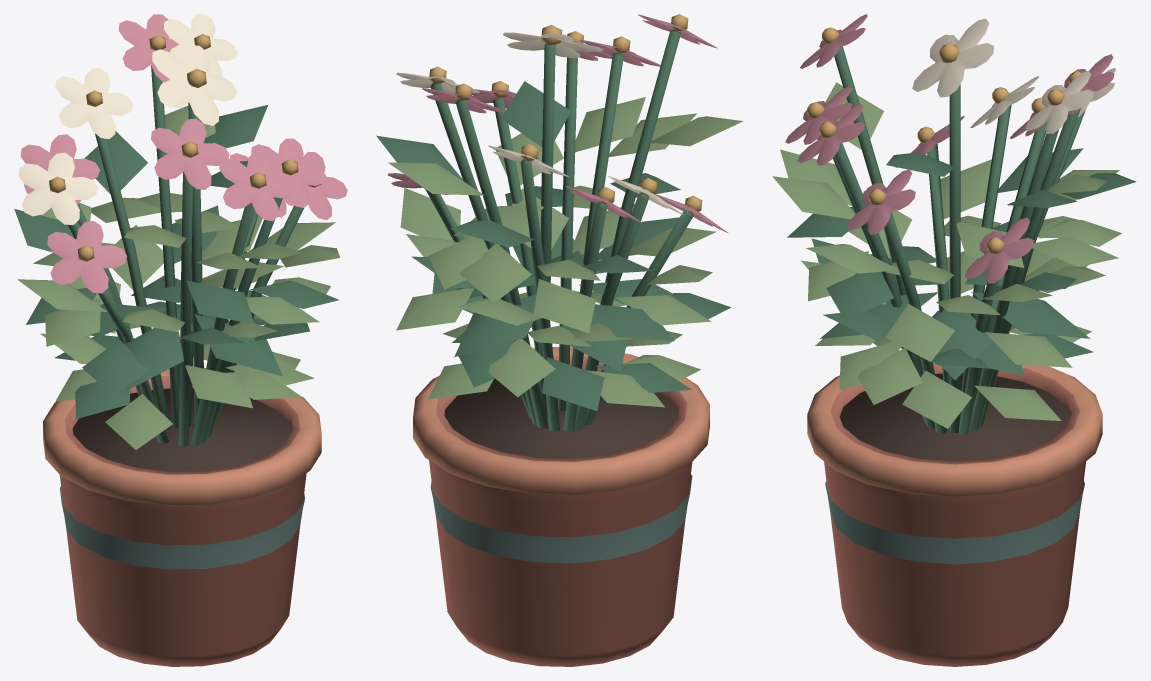
Rendered from flower_pot.glb.
3 views of the same model, side by side, from view 1: azimuth 30°, elevation 25°; view 2: azimuth 150°, elevation 25°; view 3: azimuth 270°, elevation 25° (orthographic). The views are drawn at different scales.
Parts seen in each view (by area): view 1: flower_pot; view 2: flower_pot; view 3: flower_pot.
Part boxes in pixels (<box>): flower_pot: <box>14,14,347,666</box>; flower_pot: <box>376,14,743,666</box>; flower_pot: <box>772,14,1136,666</box>.
Size of the model in its own units: 0.4319 by 0.787 by 0.435.
